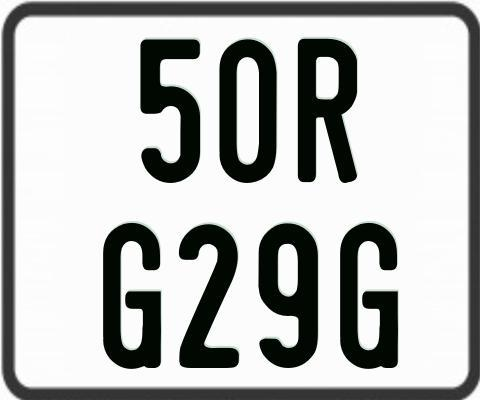0: (219, 36, 280, 186)
2: (179, 223, 242, 369)
5: (139, 38, 204, 187)
9: (258, 222, 324, 372)
G: (102, 221, 163, 370), (338, 223, 396, 372)
R: (295, 36, 354, 184)
